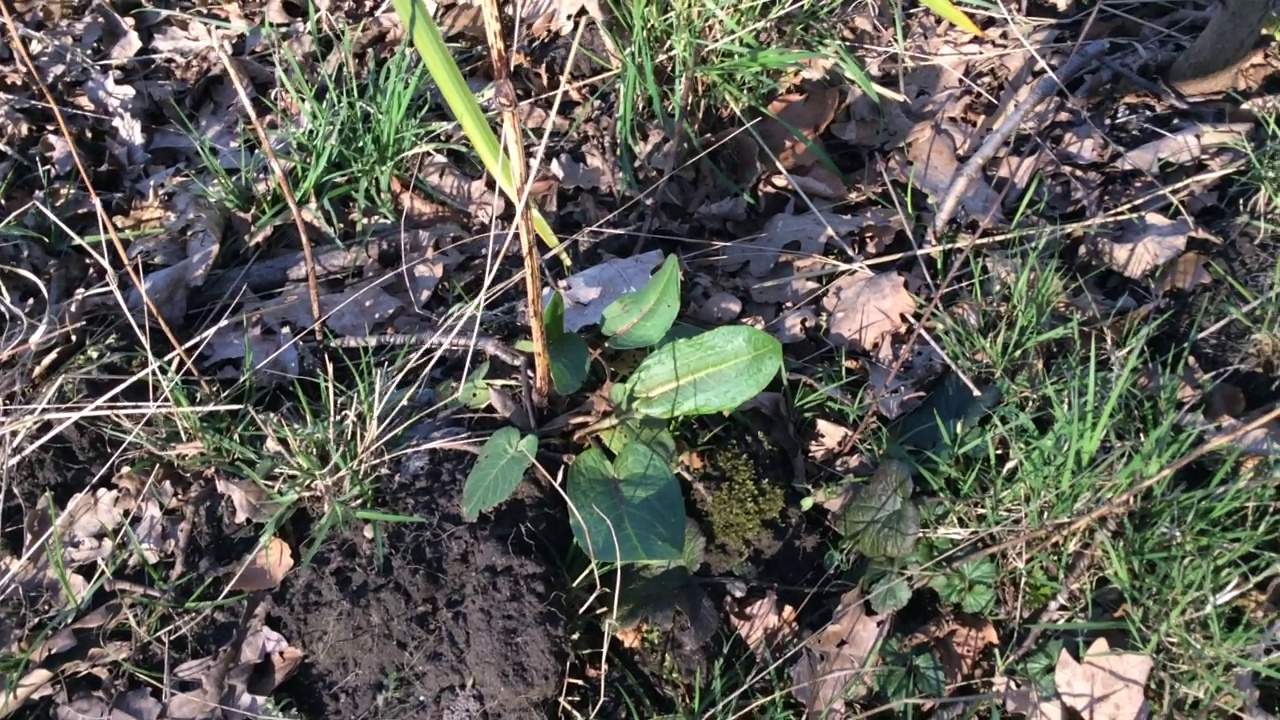rumex: (460, 254, 784, 565)
